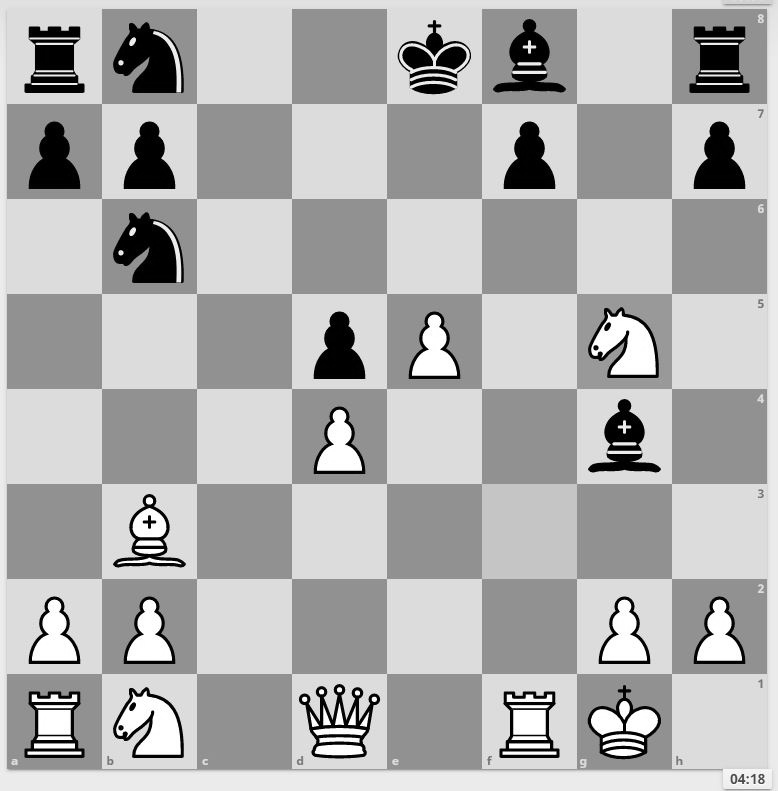bishop: (102, 475, 198, 570), (482, 9, 575, 100), (581, 390, 671, 482)
king: (389, 4, 480, 97), (583, 675, 675, 766)
knight: (102, 667, 196, 761), (578, 294, 670, 389), (101, 3, 195, 95), (103, 197, 192, 290)
pawn: (291, 386, 387, 482), (479, 96, 575, 192), (4, 574, 100, 667), (102, 97, 195, 193), (195, 196, 287, 293), (575, 576, 670, 669), (672, 579, 768, 671), (5, 100, 99, 193), (292, 294, 384, 389), (385, 293, 477, 388), (103, 572, 195, 664), (671, 99, 763, 189)
queen: (294, 668, 386, 758)
rook: (4, 667, 102, 763), (485, 675, 579, 769), (670, 5, 765, 97), (6, 5, 98, 93)
